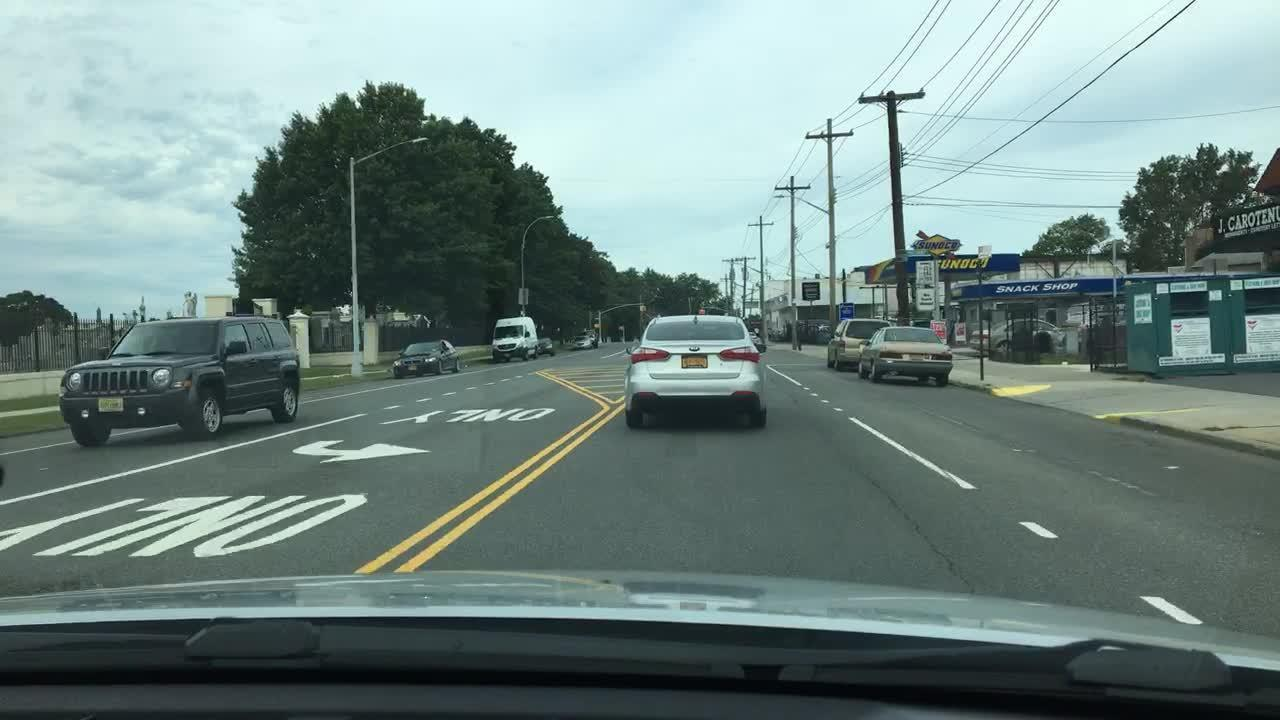jeep: (109, 360, 125, 368)
